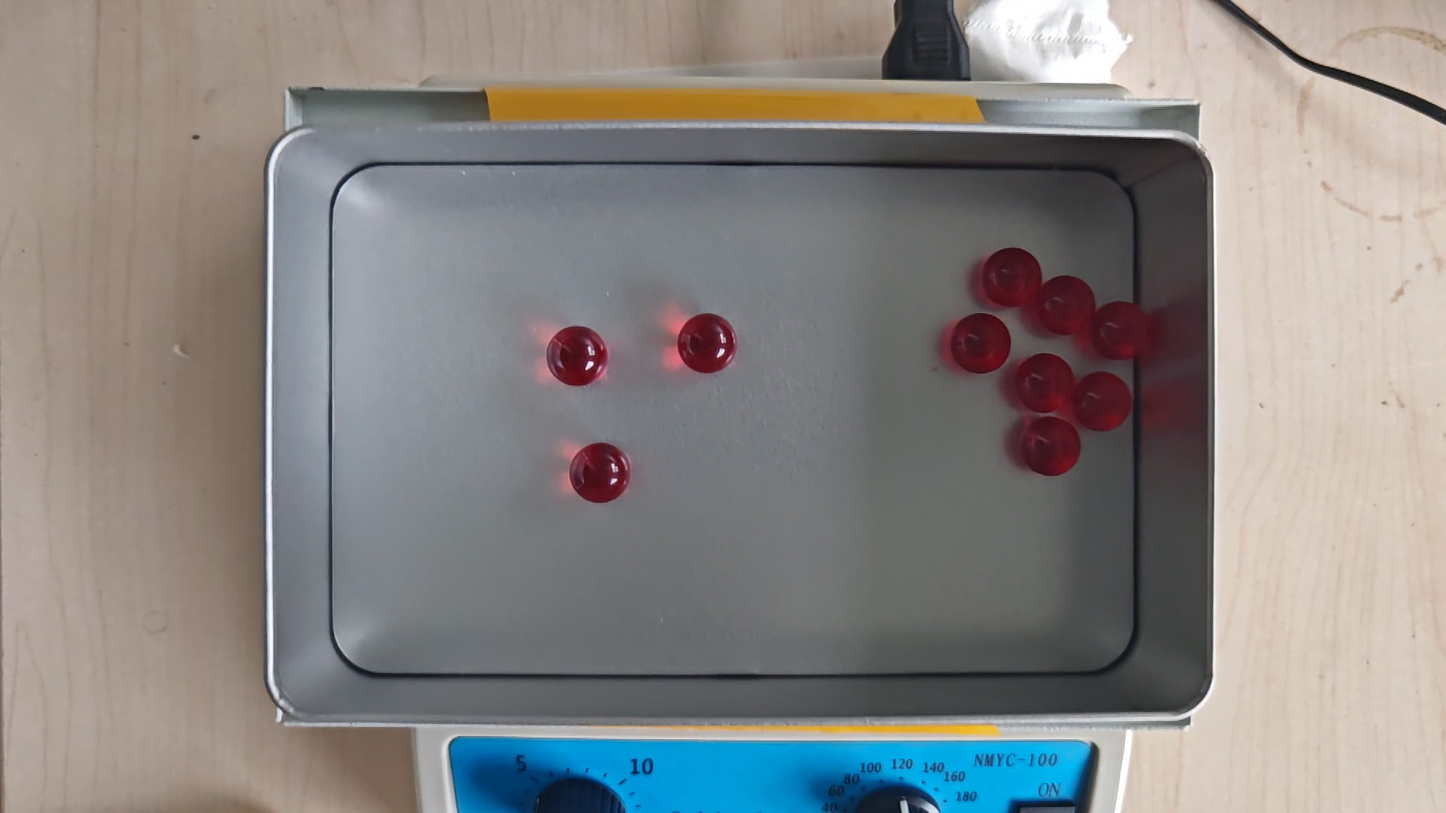ball: (981, 246, 1043, 309), (1020, 416, 1082, 478), (951, 312, 1013, 374), (570, 442, 631, 505), (546, 325, 607, 388), (678, 312, 738, 375), (1091, 301, 1152, 362), (1015, 353, 1076, 414), (1073, 371, 1133, 433), (1036, 276, 1096, 337)
container: (330, 164, 1136, 676)
